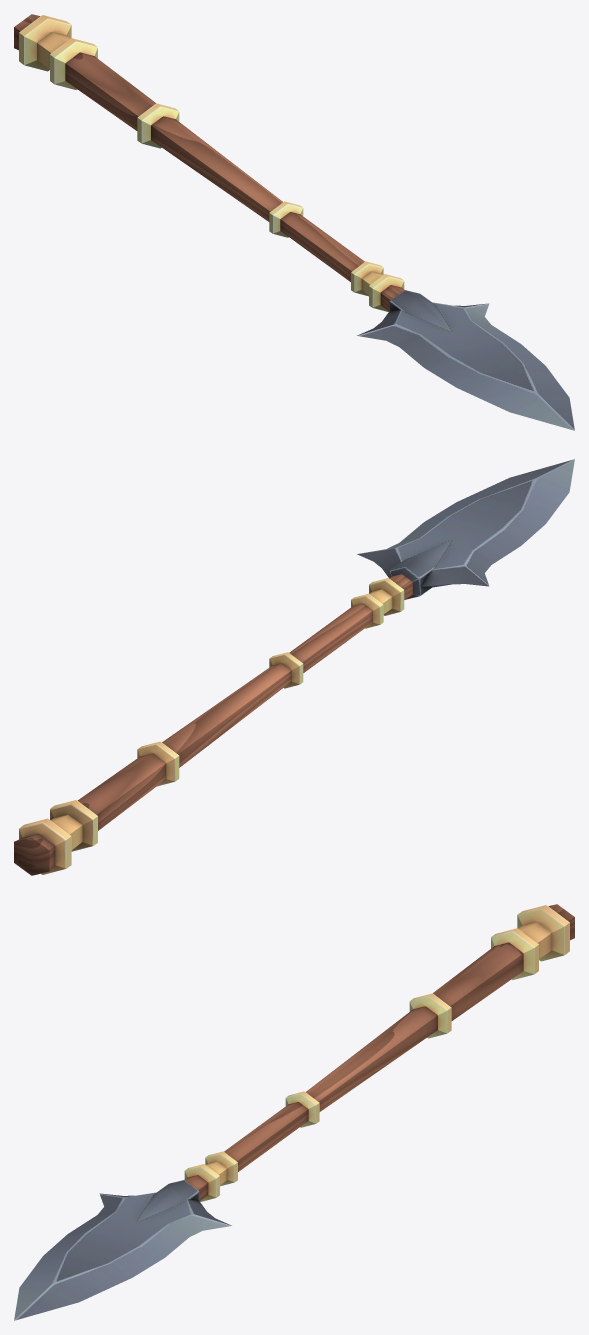
The model's file is stylized_low-poly_spear.glb.
3 views of the same model, one above another, from view 1: azimuth 30°, elevation 25°; view 2: azimuth 150°, elevation 25°; view 3: azimuth 330°, elevation 25° (orthographic).
Parts seen in each view (by area): view 1: Cube; view 2: Cube; view 3: Cube.
Boxes of the visible parts, x1,y1,x2,y2 form: Cube: [14, 14, 574, 430]; Cube: [14, 459, 574, 875]; Cube: [14, 904, 574, 1320].
Size of the model in its own units: 0.3539 by 0.1349 by 2.52.
2 materials, 2 textured.
